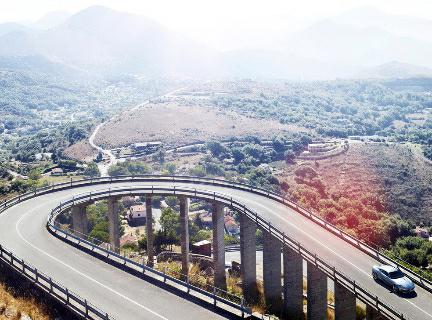捷豹-C-X16: (371, 258, 423, 306)
